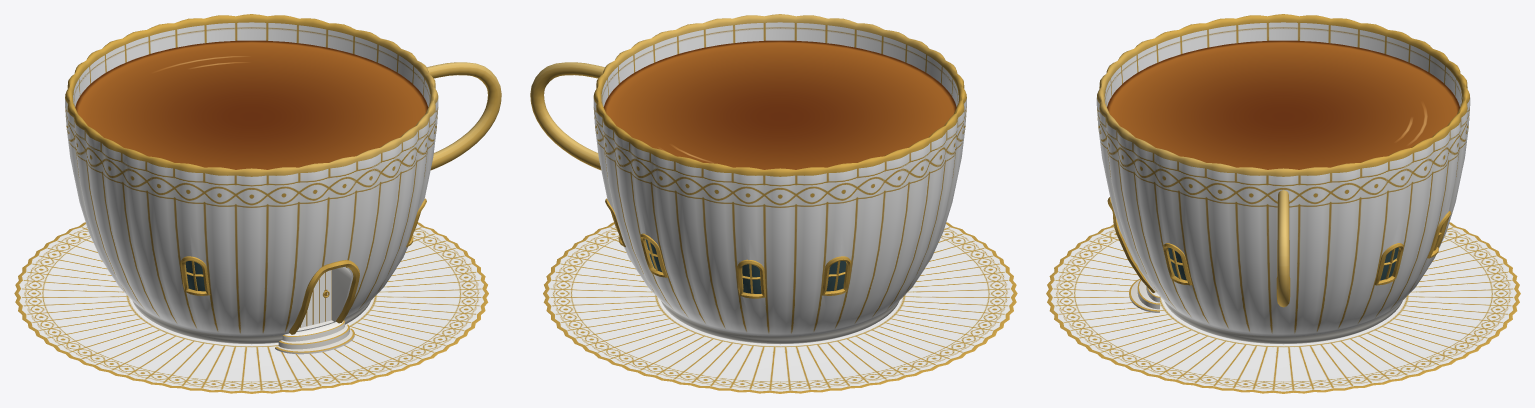
File: ribbed_cup.glb
The picture shows the model from 3 angles, left to right: view 1: azimuth 30°, elevation 25°; view 2: azimuth 150°, elevation 25°; view 3: azimuth 270°, elevation 25°; orthographic projection.
Visible parts, largest first — view 1: ribbed_cup-saucer, ribbed_cup-roof, ribbed_cup-wall-1, ribbed_cup-wall-0, ribbed_cup-wall-2, ribbed_cup-wall-7, ribbed_cup-wall-5, ribbed_cup-base, ribbed_cup-wall-4, ribbed_cup-shell, ribbed_cup-wall-6, ribbed_cup-wall-3 (+1 smaller); view 2: ribbed_cup-saucer, ribbed_cup-roof, ribbed_cup-wall-3, ribbed_cup-wall-4, ribbed_cup-wall-2, ribbed_cup-wall-5, ribbed_cup-wall-7, ribbed_cup-wall-0, ribbed_cup-shell, ribbed_cup-base, ribbed_cup-wall-6, ribbed_cup-wall-1; view 3: ribbed_cup-saucer, ribbed_cup-roof, ribbed_cup-wall-6, ribbed_cup-wall-5, ribbed_cup-wall-7, ribbed_cup-wall-2, ribbed_cup-base, ribbed_cup-wall-0, ribbed_cup-wall-3, ribbed_cup-wall-1, ribbed_cup-wall-4, ribbed_cup-shell.
Part boxes in pixels (<box>): ribbed_cup-saucer: <box>14,222,488,393</box>; ribbed_cup-roof: <box>75,40,428,169</box>; ribbed_cup-wall-1: <box>138,153,275,333</box>; ribbed_cup-wall-0: <box>268,139,398,334</box>; ribbed_cup-wall-2: <box>67,102,172,322</box>; ribbed_cup-wall-7: <box>355,82,438,311</box>; ribbed_cup-wall-5: <box>228,14,362,55</box>; ribbed_cup-base: <box>132,301,370,354</box>; ribbed_cup-wall-4: <box>106,15,228,69</box>; ribbed_cup-shell: <box>427,62,501,170</box>; ribbed_cup-wall-6: <box>360,30,435,105</box>; ribbed_cup-wall-3: <box>65,45,110,168</box>; ribbed_cup-saucer: <box>543,222,1017,393</box>; ribbed_cup-roof: <box>603,40,956,169</box>; ribbed_cup-wall-3: <box>756,153,893,333</box>; ribbed_cup-wall-4: <box>633,139,763,333</box>; ribbed_cup-wall-2: <box>859,102,964,322</box>; ribbed_cup-wall-5: <box>593,82,676,311</box>; ribbed_cup-wall-7: <box>669,14,803,55</box>; ribbed_cup-wall-0: <box>803,15,925,69</box>; ribbed_cup-shell: <box>530,62,604,170</box>; ribbed_cup-base: <box>661,301,899,344</box>; ribbed_cup-wall-6: <box>596,30,671,105</box>; ribbed_cup-wall-1: <box>921,45,966,168</box>; ribbed_cup-saucer: <box>1046,222,1520,393</box>; ribbed_cup-roof: <box>1107,40,1459,169</box>; ribbed_cup-wall-6: <box>1212,163,1354,333</box>; ribbed_cup-wall-5: <box>1333,121,1454,329</box>; ribbed_cup-wall-7: <box>1112,121,1233,329</box>; ribbed_cup-wall-2: <box>1214,14,1352,46</box>; ribbed_cup-base: <box>1129,279,1402,344</box>; ribbed_cup-wall-0: <box>1096,62,1161,297</box>; ribbed_cup-wall-3: <box>1351,20,1452,86</box>; ribbed_cup-wall-1: <box>1115,20,1215,86</box>; ribbed_cup-wall-4: <box>1405,62,1470,297</box>; ribbed_cup-shell: <box>1276,190,1290,307</box>.
Bounding box in the file's own units: 14.18 × 6.08 × 12.82.
2 materials, 1 textured.
